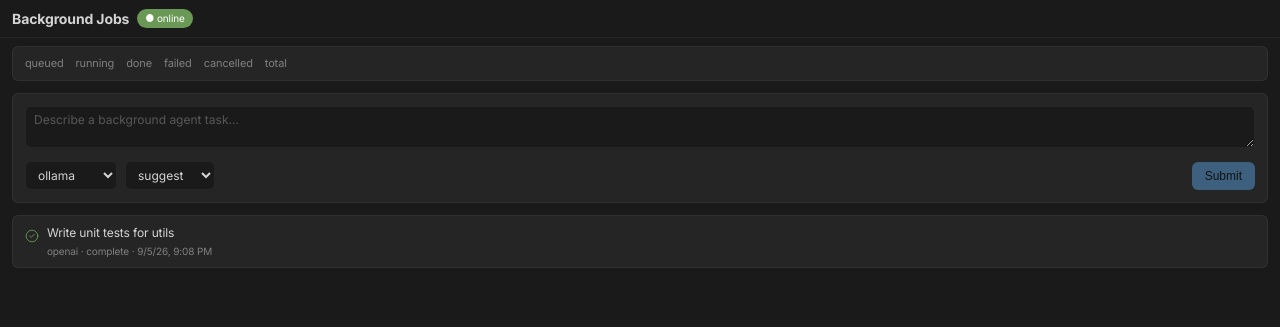
it: Given a completed job has a recap › When the daemon returns no recap, Then the legacy summary is shown
Click the text "Write unit tests for utils".
click(111, 232)  # box [47,225,174,240]
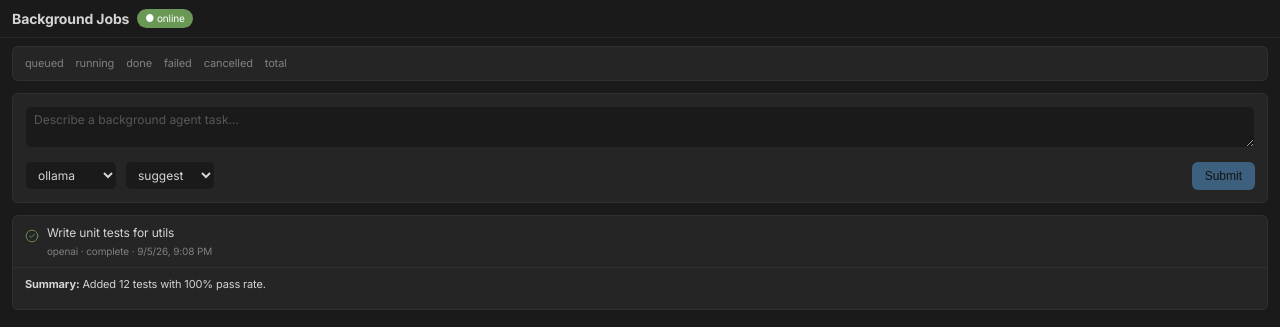
Expected: the text "Summary: Added 12 tests with 100% pass rate." is shown, [25,277,266,291]
